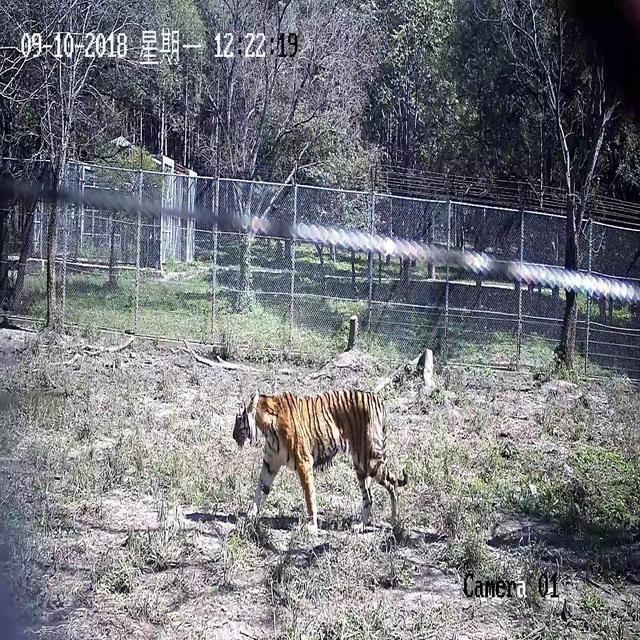tiger: (232, 387, 407, 534)
